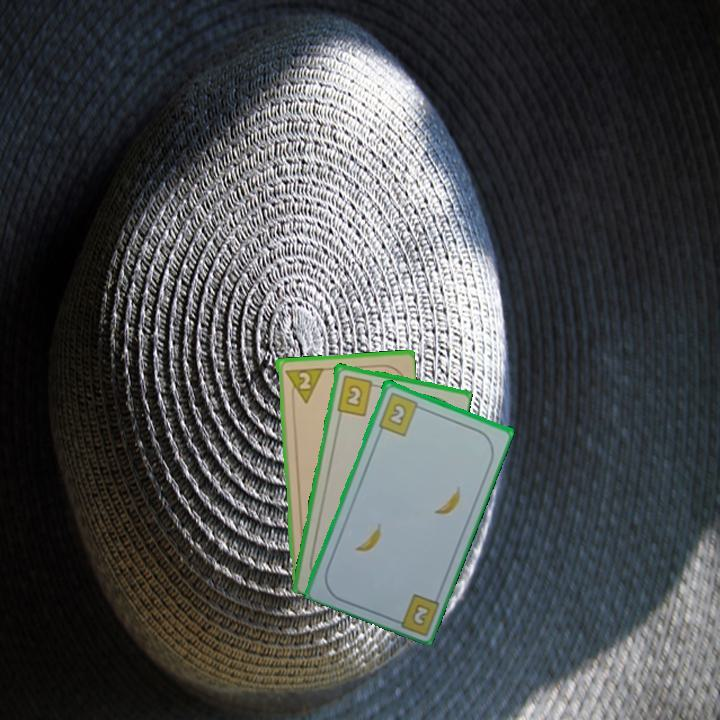2b: (375, 388, 426, 438), (333, 372, 381, 418), (408, 600, 433, 629)
2p: (280, 364, 324, 406)
